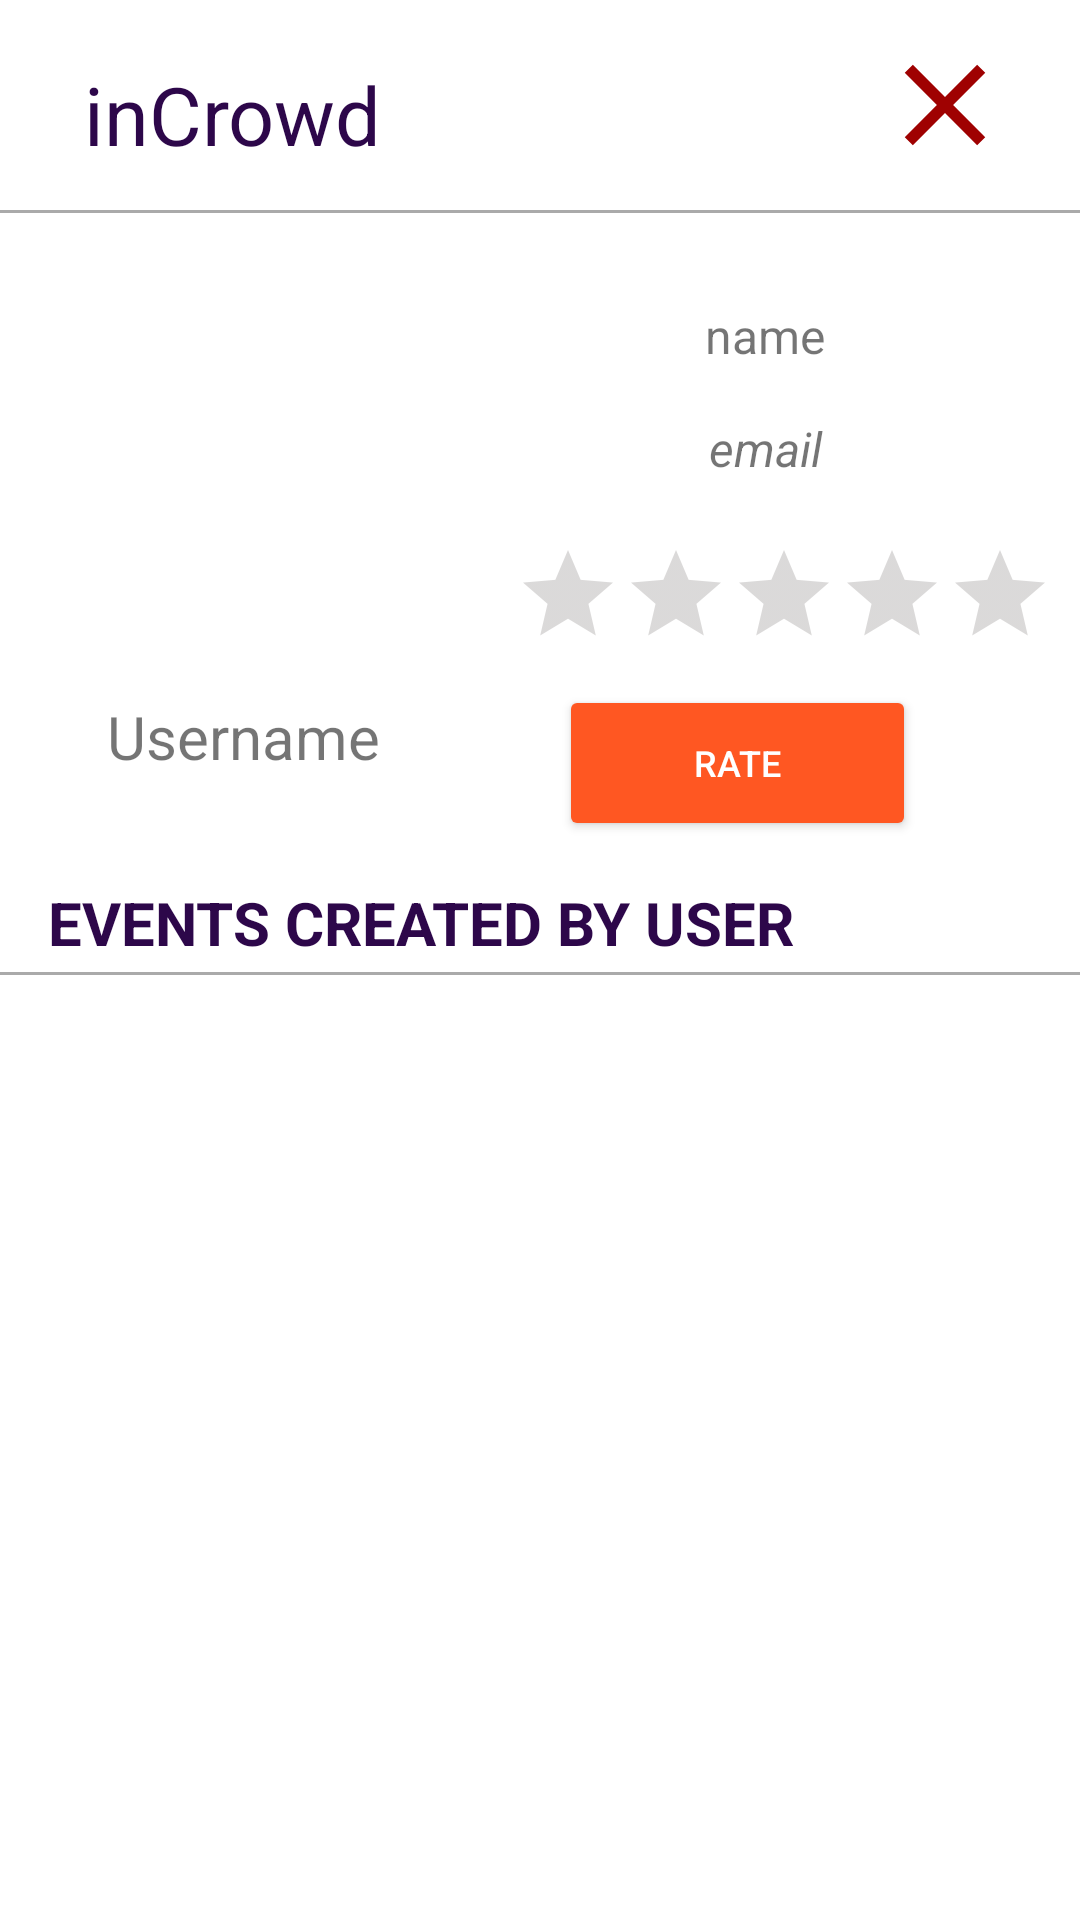

Icons on this 1080x1920 Android screen, each with its box as (x1, y1, x2, y2):
leave event: (905, 65, 985, 145)
